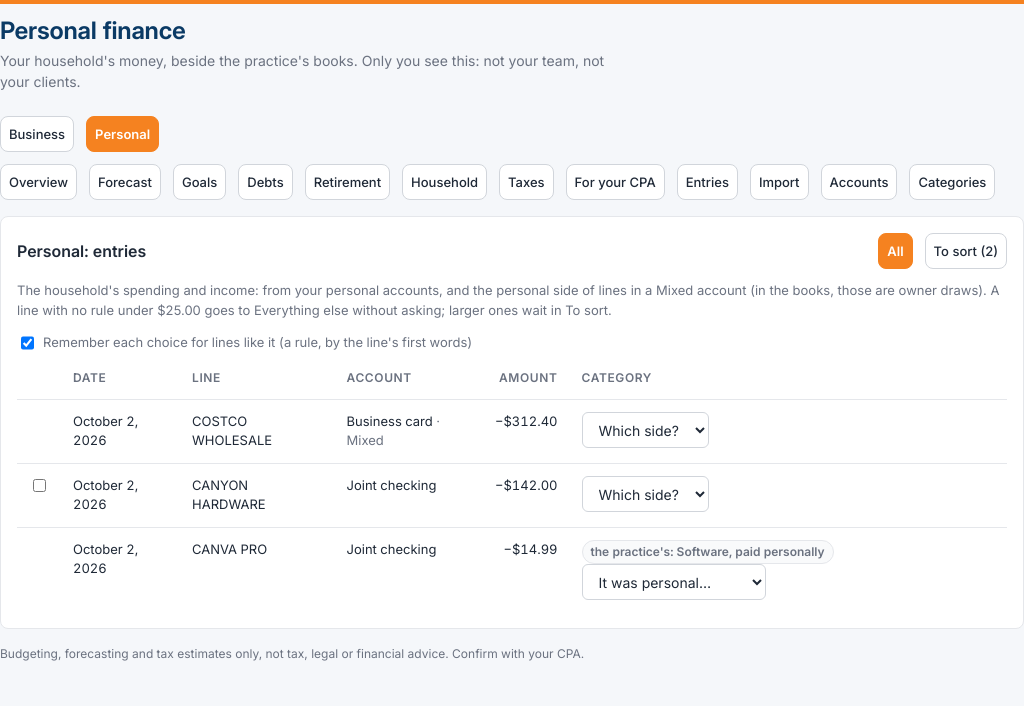
Test: the rest of stop 1 › sorts with Claude: priced first, says what is sent, and accepts as rules
Click the button "To sort (2)".
click(966, 251)  # box [925, 233, 1007, 269]
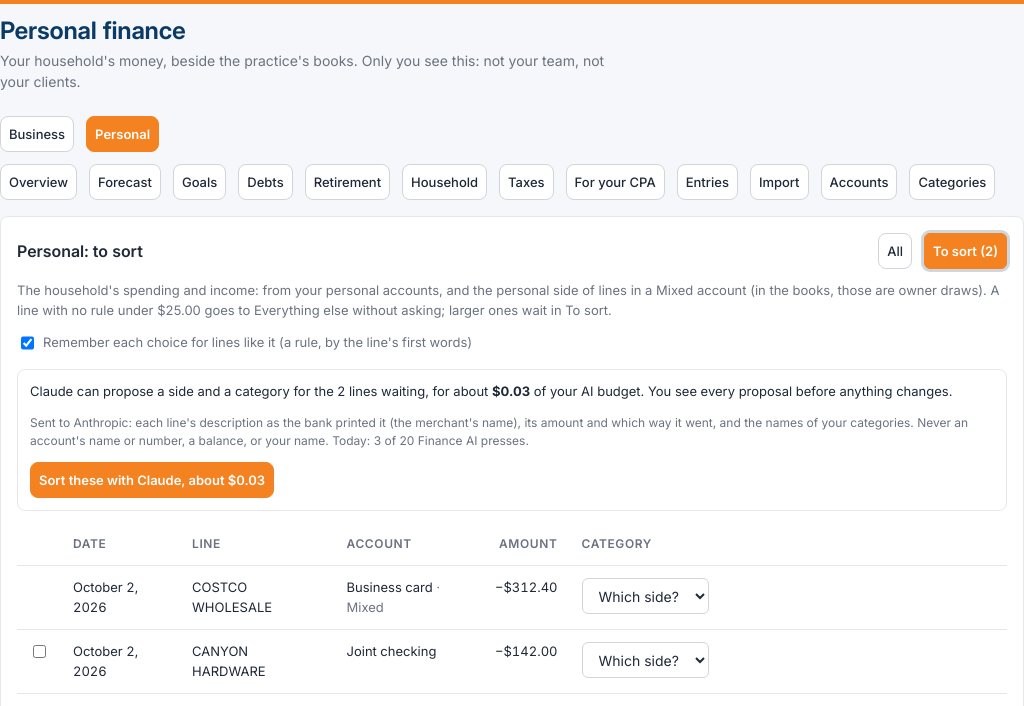
Now the element named "Sort these with Claude" shows "about $0.03 of your AI budget", box [17, 368, 1007, 511]
Now the element named "Sort these with Claude" shows "the merchant's name", box [30, 415, 968, 448]
Now the element named "Sort these with Claude" shows "Never an account's name or number", box [30, 415, 968, 448]
Click the button "Sort these with Claude, about $0.03".
click(152, 480)  # box [30, 462, 274, 498]
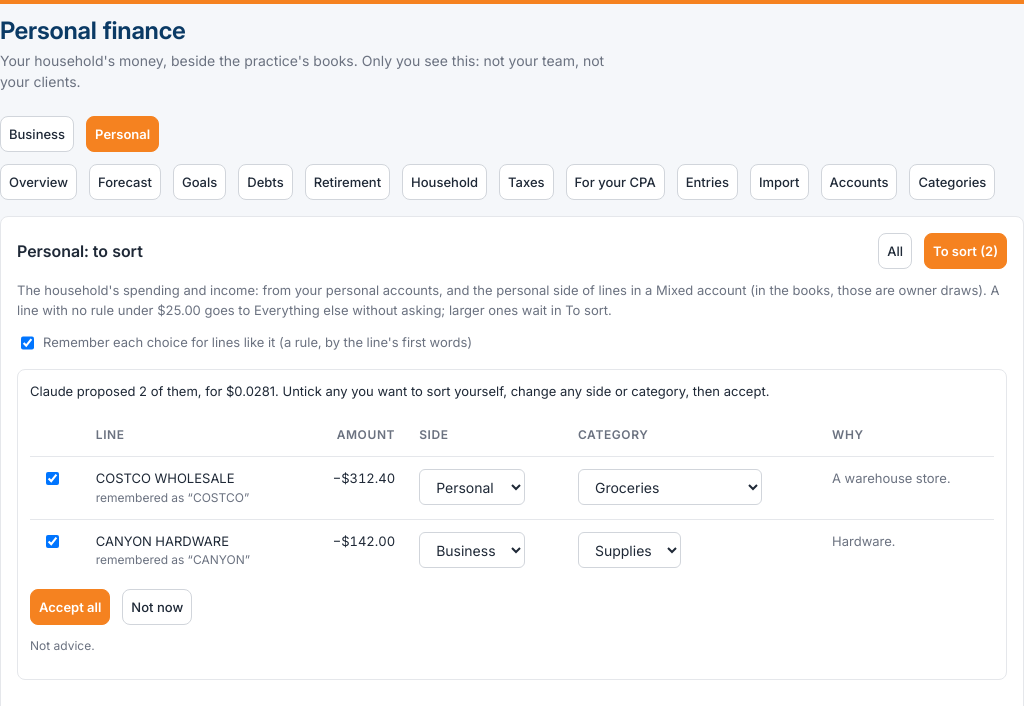
Now the text "A warehouse store." is shown, box [820, 456, 994, 519]
# The owner changes one before accepting.
Select "Personal" in the dropdown named "Side proposed for CANYON HARDWARE" at (472, 550), box [419, 532, 525, 568]
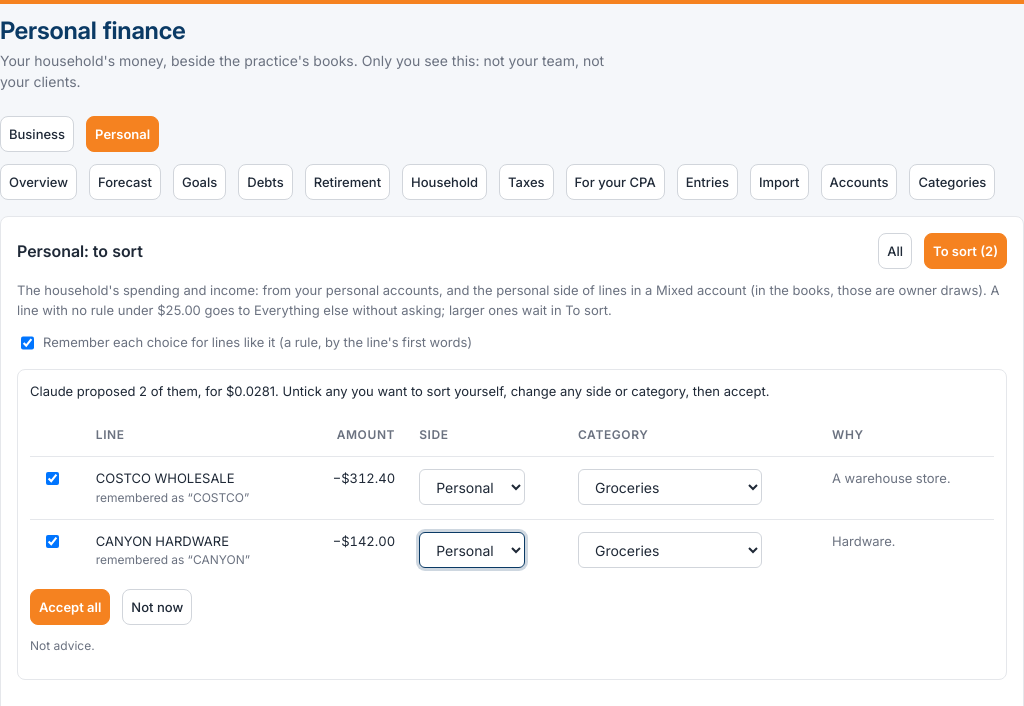
Select "Groceries" in the dropdown named "Category proposed for CANYON HARDWARE" at (670, 550), box [578, 532, 762, 568]
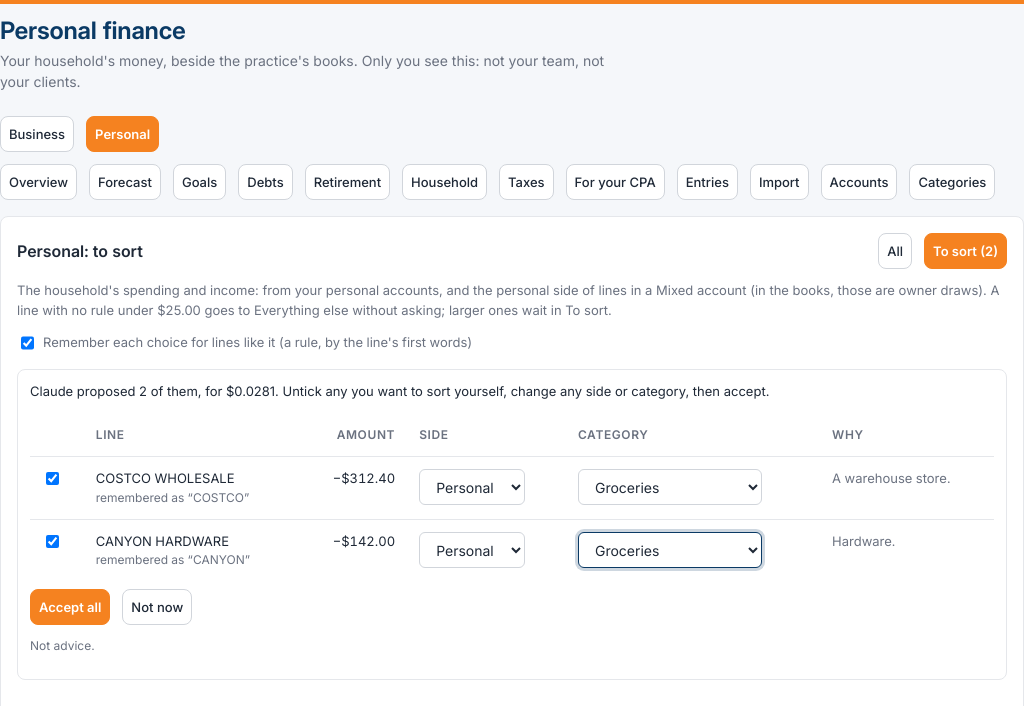
Click the button "Accept all".
click(70, 607)  # box [30, 589, 110, 625]
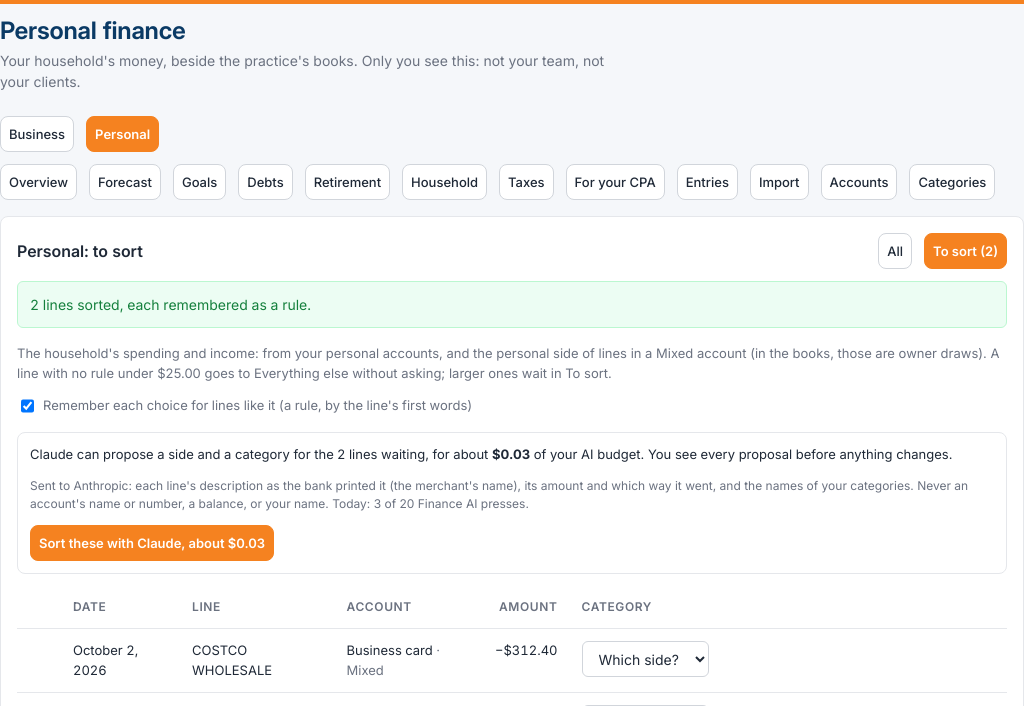
Now the text "2 lines sorted, each remembered as a rule." is shown, box [30, 296, 311, 313]
